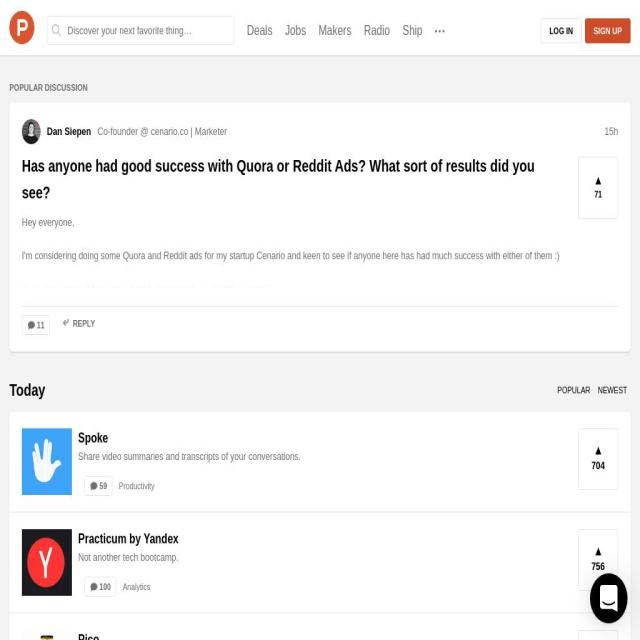button: (9, 512, 630, 614), (9, 412, 630, 512), (22, 214, 566, 289), (22, 152, 566, 206), (9, 613, 630, 640), (578, 157, 618, 219), (578, 428, 618, 490), (578, 529, 618, 591), (590, 574, 628, 624), (584, 17, 632, 44), (540, 17, 582, 44), (10, 11, 34, 50), (47, 123, 91, 140), (84, 576, 117, 596), (22, 119, 47, 144), (85, 476, 114, 496), (22, 315, 50, 335), (119, 479, 155, 493), (578, 630, 618, 640), (122, 580, 150, 593)
field: (47, 16, 234, 45)
heading: (78, 428, 566, 448), (78, 529, 566, 549), (78, 630, 566, 640)
image: (22, 428, 72, 495), (22, 529, 72, 596), (10, 11, 34, 44), (22, 630, 72, 640), (600, 585, 618, 612), (22, 119, 40, 144), (593, 444, 603, 458), (593, 545, 603, 558), (593, 175, 603, 187), (52, 24, 61, 37), (90, 582, 98, 592), (27, 321, 35, 330), (62, 318, 70, 327), (90, 482, 98, 491), (435, 29, 444, 33)
link: (78, 448, 566, 465), (78, 549, 566, 566), (318, 22, 351, 38), (364, 22, 391, 38), (247, 22, 272, 38), (284, 22, 306, 38), (557, 385, 591, 395), (402, 22, 422, 38), (597, 385, 627, 395)
text: (22, 214, 566, 289), (22, 152, 566, 206), (9, 81, 630, 94), (97, 123, 227, 140), (10, 377, 46, 403), (47, 125, 91, 137), (119, 479, 155, 493), (593, 23, 623, 38), (122, 580, 150, 593), (549, 23, 573, 38), (68, 318, 95, 328), (591, 557, 605, 575), (591, 457, 605, 474), (604, 125, 619, 137), (100, 580, 112, 593), (594, 187, 602, 201), (37, 318, 45, 332), (100, 479, 108, 493)
